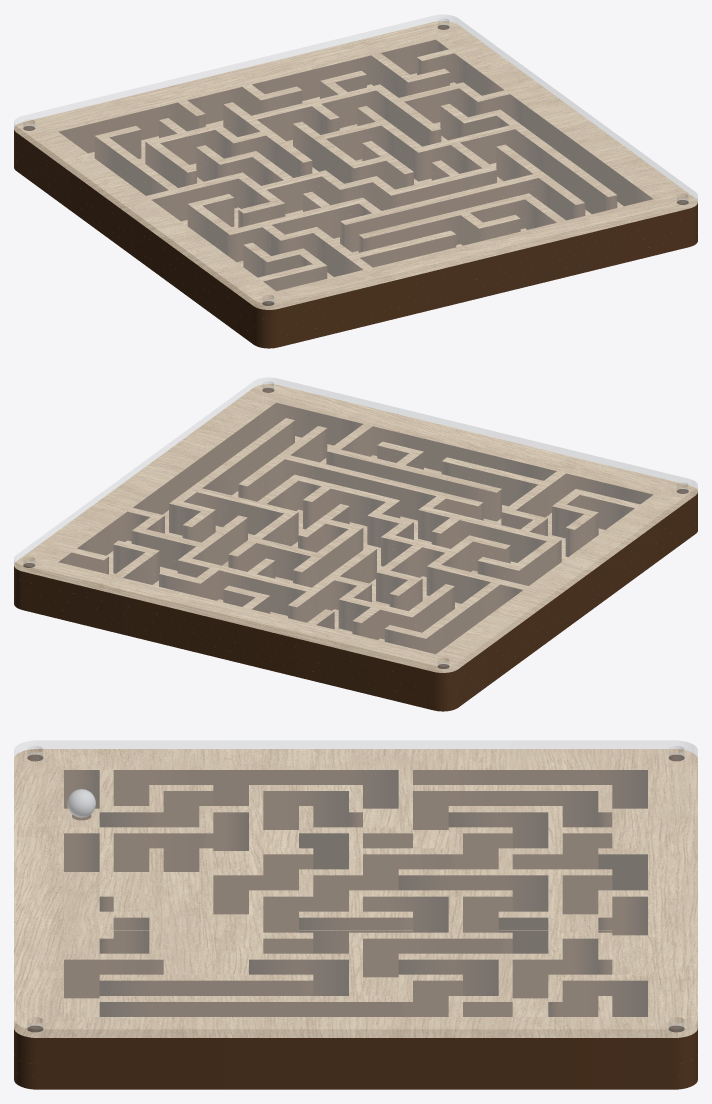
File: tilt-maze.glb
3 views of the same model, one above another, from view 1: azimuth 30°, elevation 25°; view 2: azimuth 150°, elevation 25°; view 3: azimuth 270°, elevation 25° (orthographic). The views are drawn at different scales.
Parts seen in each view (by area): view 1: body4, body3, body2, body1, body0; view 2: body4, body3, body2, body1, body0; view 3: body4, body3, body2, body0, body1, ball0.
Boxes of the visible parts, x1,y1,x2,y2 form: body4: [14, 14, 697, 309]; body3: [14, 21, 697, 319]; body2: [14, 49, 697, 329]; body1: [14, 63, 697, 338]; body0: [14, 73, 697, 348]; body4: [14, 377, 697, 672]; body3: [14, 384, 697, 682]; body2: [14, 412, 697, 692]; body1: [14, 422, 697, 701]; body0: [14, 436, 697, 711]; body4: [14, 740, 697, 1037]; body3: [14, 749, 697, 1050]; body2: [14, 783, 697, 1063]; body0: [14, 808, 697, 1089]; body1: [14, 796, 697, 1076]; ball0: [67, 789, 95, 817].
Size of the model in its own units: 0.144 by 0.014 by 0.144.
Materials: 5 (1 with a texture image).
